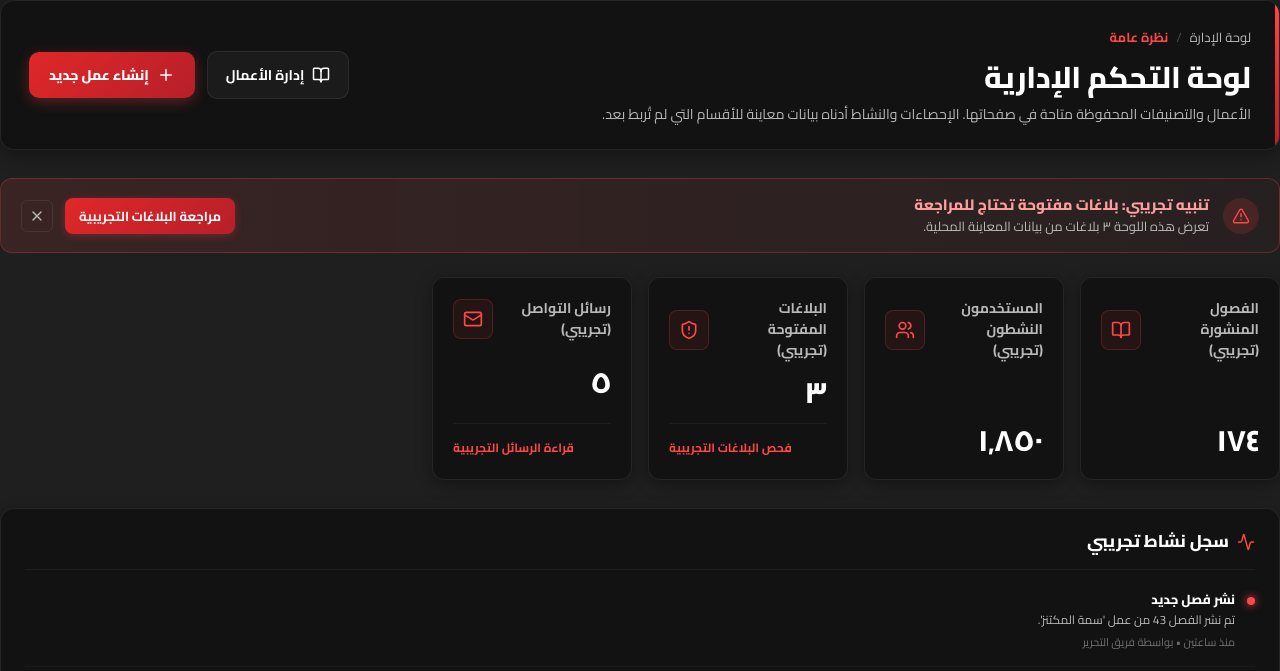
Test: AdminDashboard Component › shows moderation notice when open reports exist and allows dismissal
Expected: the message is shown, [0, 178, 1279, 253]
Expected: the heading "تنبيه تجريبي: بلاغات مفتوحة تحتاج للمراجعة" is shown, [914, 195, 1209, 214]
// Dismiss banner
Click the button named "إغلاق التنبيه" at (37, 216), box [21, 200, 53, 232]
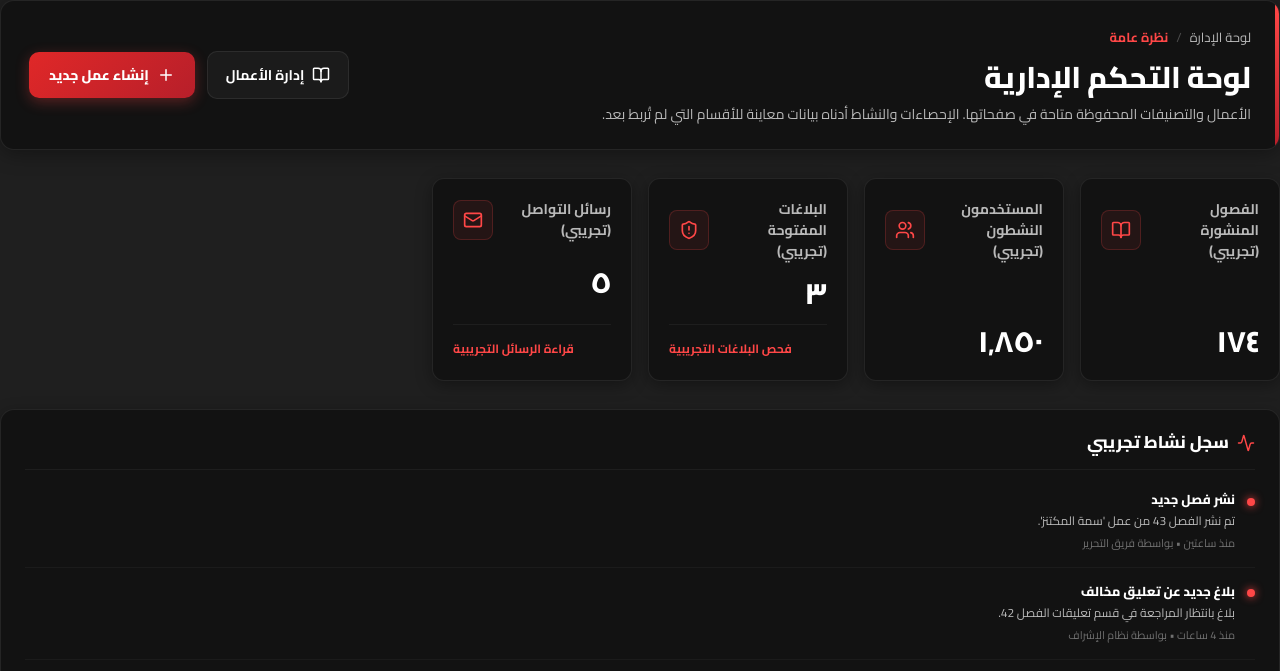
Expected: the message is gone
